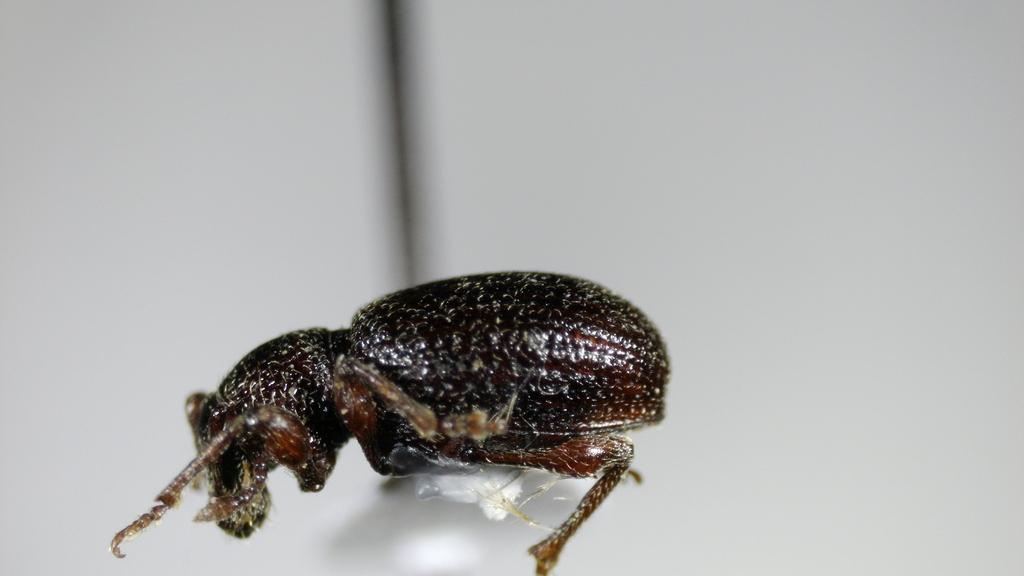weevils: (40, 157, 748, 576)
